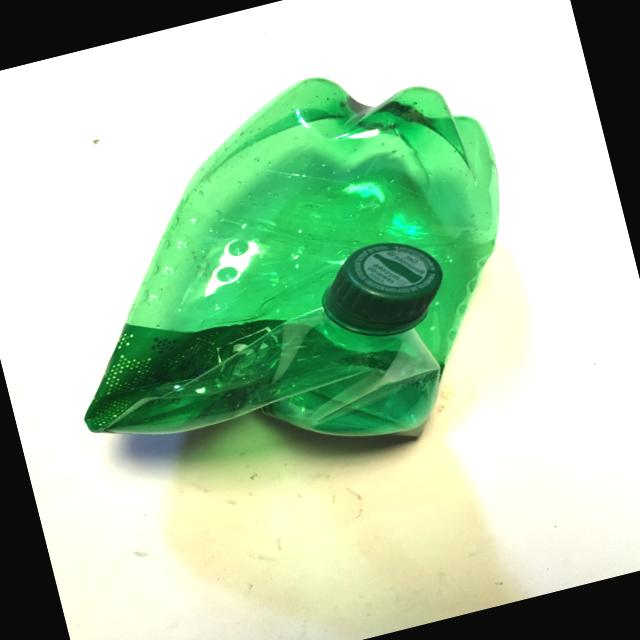Plastic: (0, 27, 568, 555)
